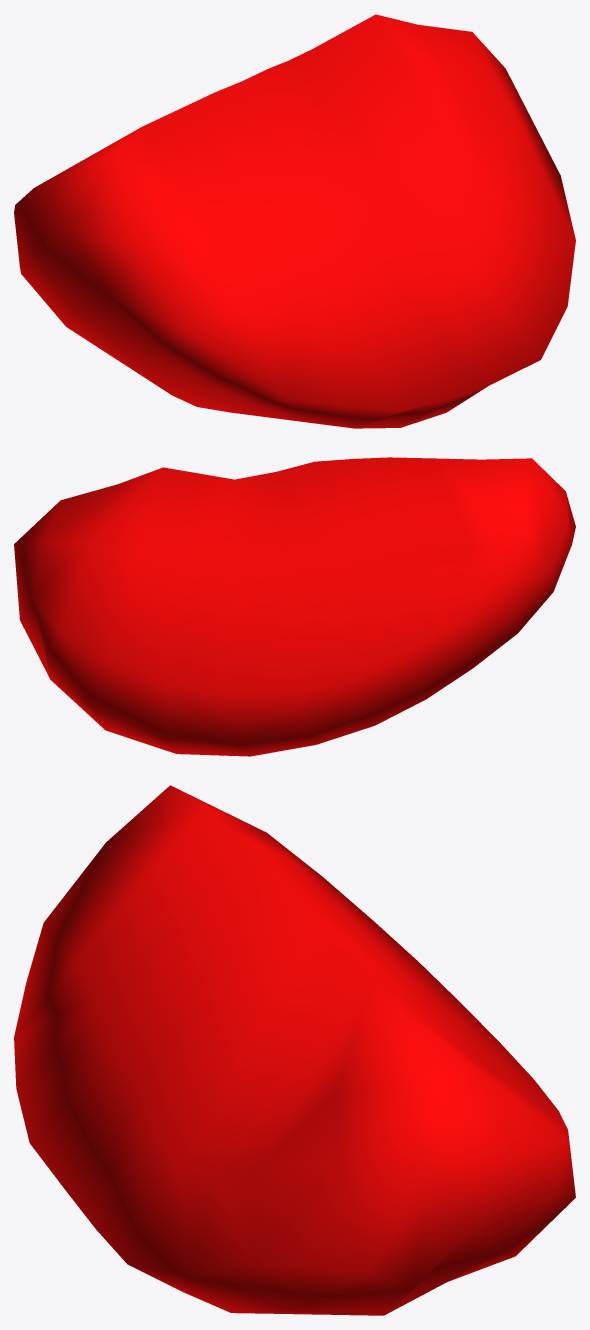
File: apple4_coll.FBX
3 views of the same model, one above another, from view 1: azimuth 30°, elevation 25°; view 2: azimuth 150°, elevation 25°; view 3: azimuth 270°, elevation 25° (orthographic). The views are drawn at different scales.
Visible parts, largest first — view 1: apple4_coll; view 2: apple4_coll; view 3: apple4_coll.
Part boxes in pixels (left/top/right/bottom): apple4_coll: left=14, top=14, right=575, bottom=428; apple4_coll: left=14, top=457, right=575, bottom=756; apple4_coll: left=14, top=785, right=575, bottom=1315.
Size of the model in its own units: 62.94 by 36.32 by 52.25.
